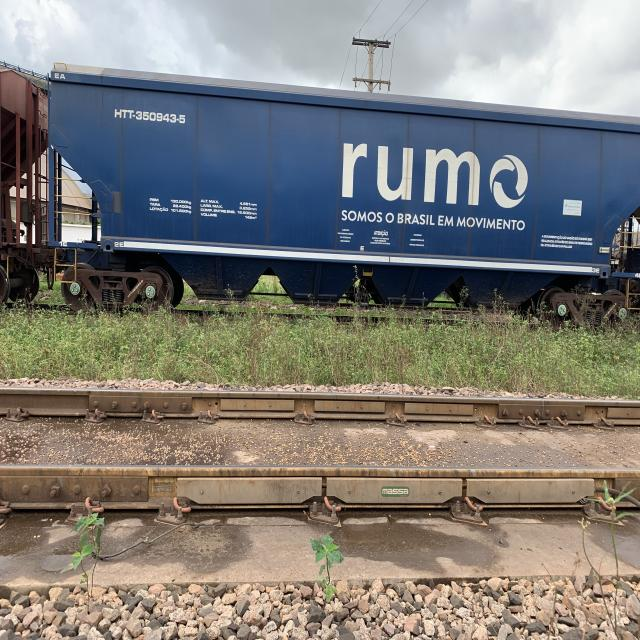hopper: (47, 52, 640, 322), (0, 57, 48, 308)
